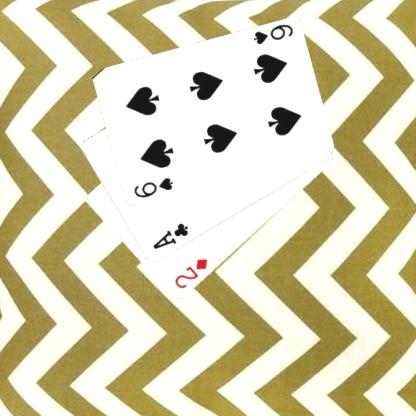2D: (172, 256, 209, 290)
6S: (131, 175, 174, 200), (250, 22, 294, 46)
AC: (150, 220, 190, 251)
